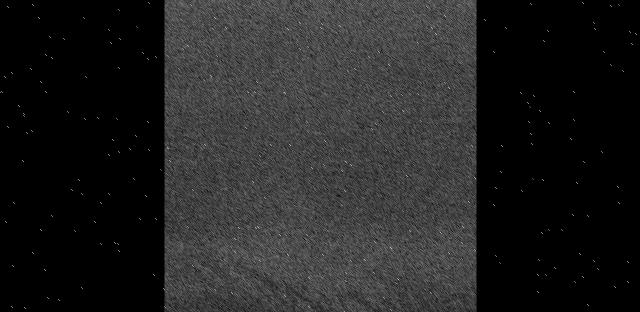water_spot: (164, 217, 469, 312)
